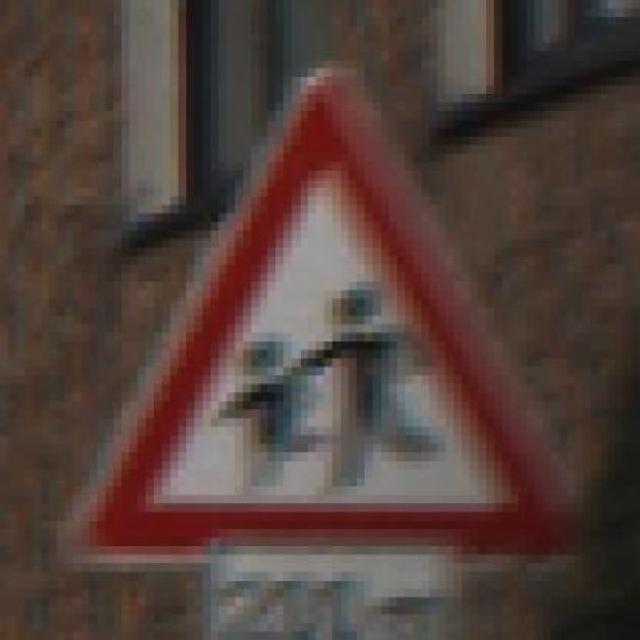Beware of children: (40, 41, 583, 587)
